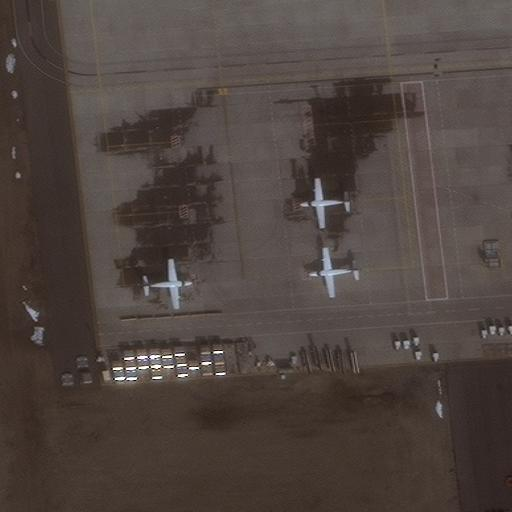Medium Civil Transport: (138, 258, 193, 309), (298, 177, 353, 228), (308, 247, 362, 298)
